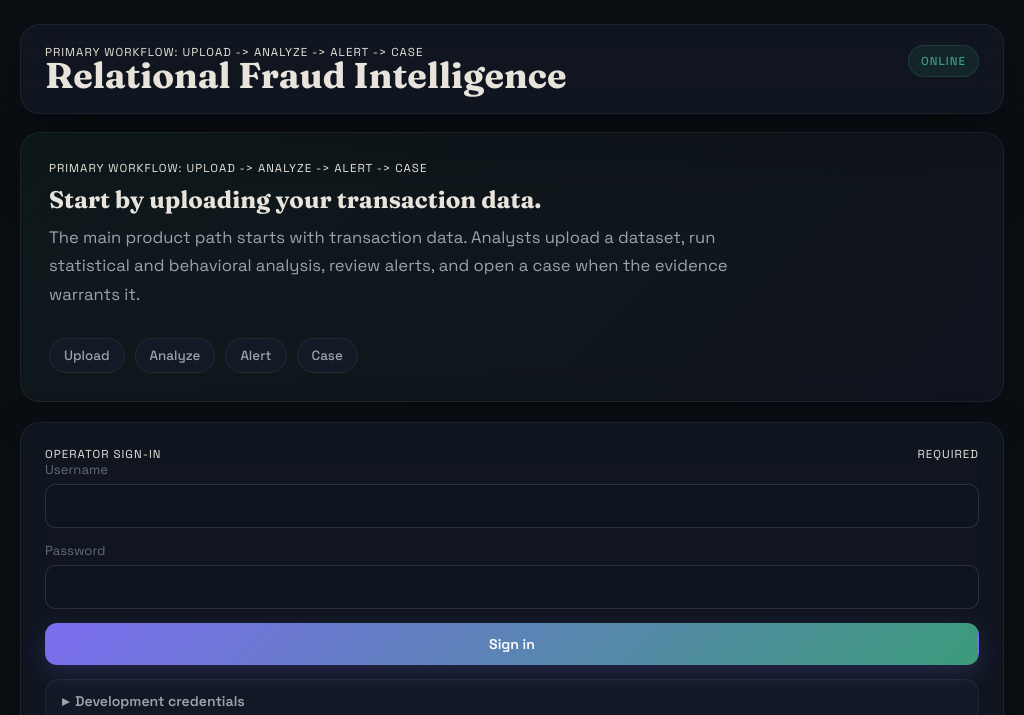
Test: Dashboard › refreshes alerts and audit entries after an admin analyzes a dataset
Type "admin" into the field labelled "Username" at (512, 506), box [45, 484, 979, 528]
Type "AdminPassword123!" into the password field labelled "Password" at (512, 586), box [45, 564, 979, 608]
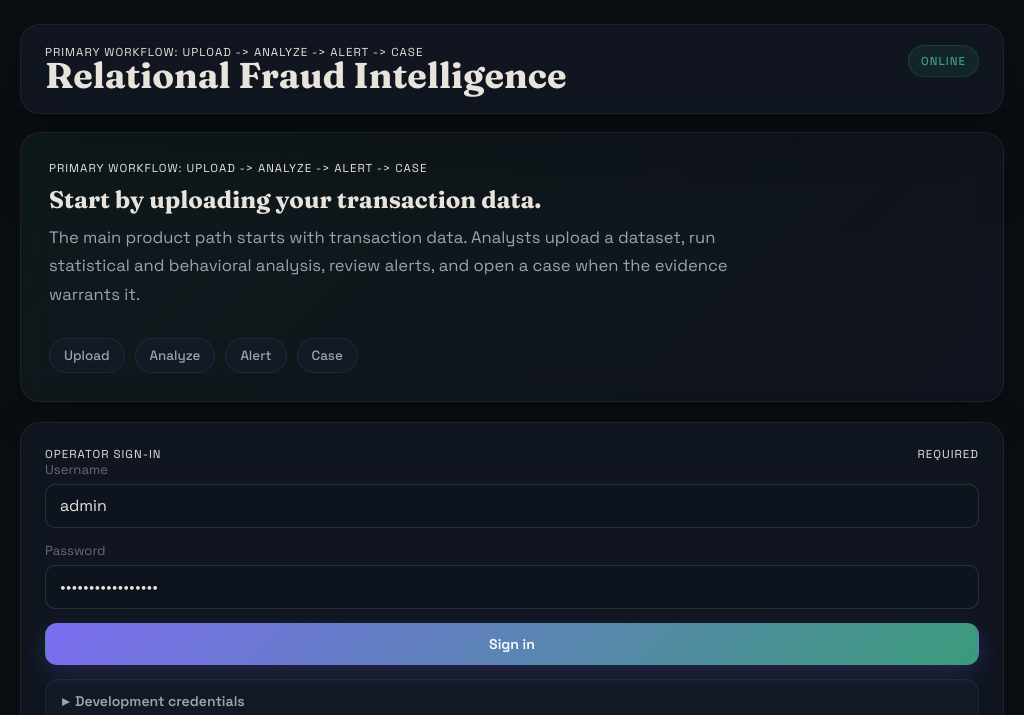
Submit the form "Sign in", box [45, 460, 979, 664]
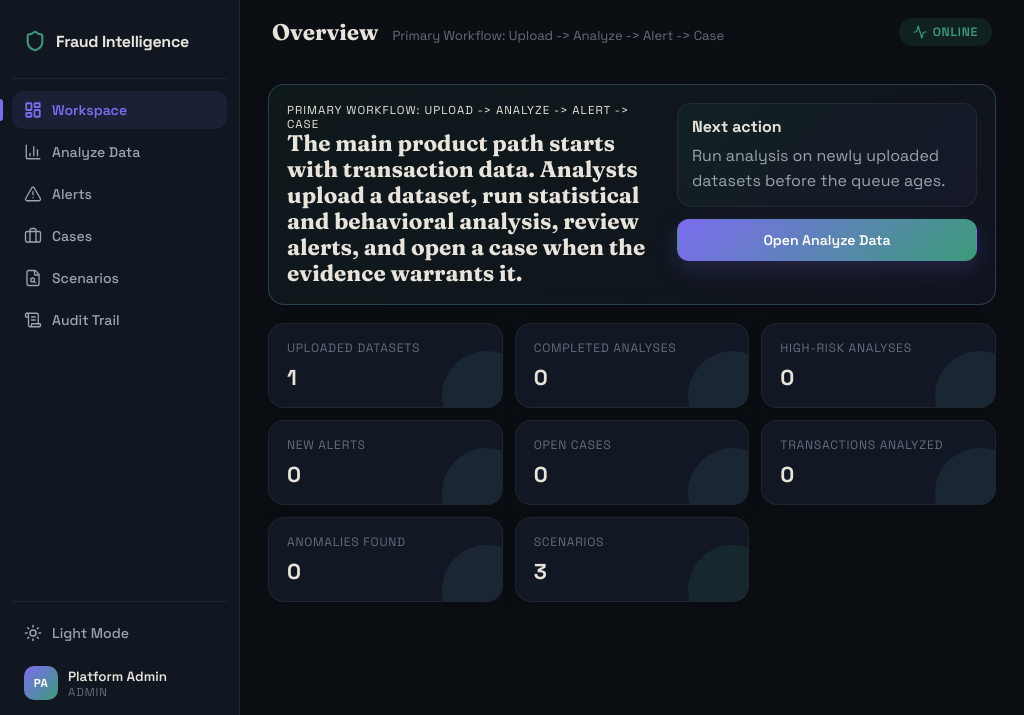
Click the button "Analyze Data" at (120, 152), box [12, 133, 227, 171]
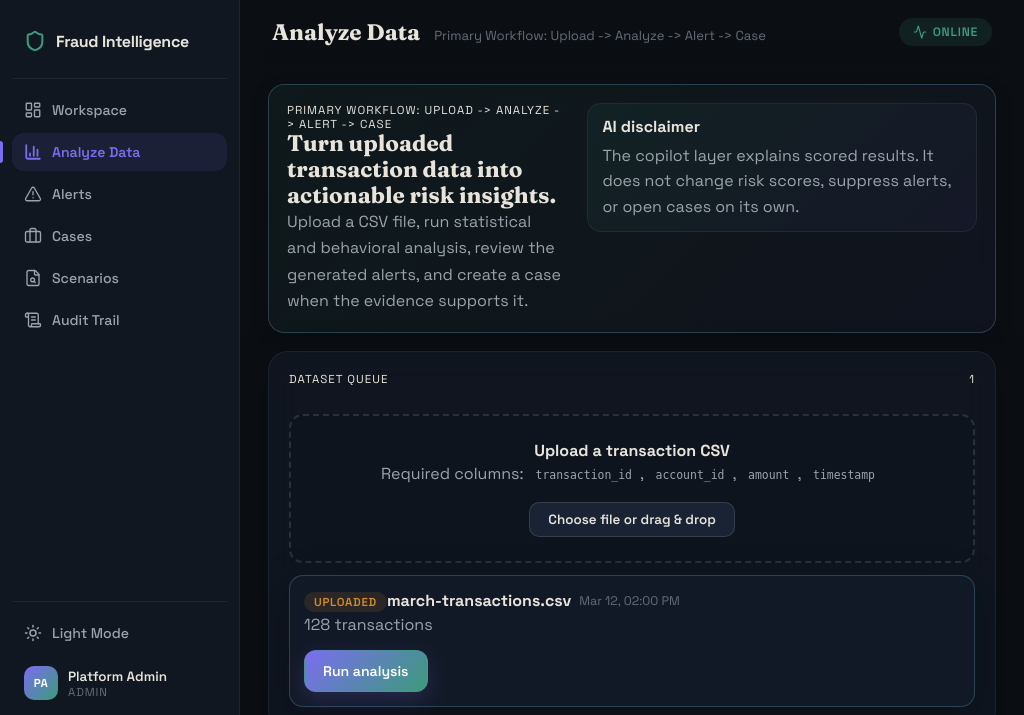
Click the button "Run analysis" at (366, 671), box [304, 650, 428, 692]
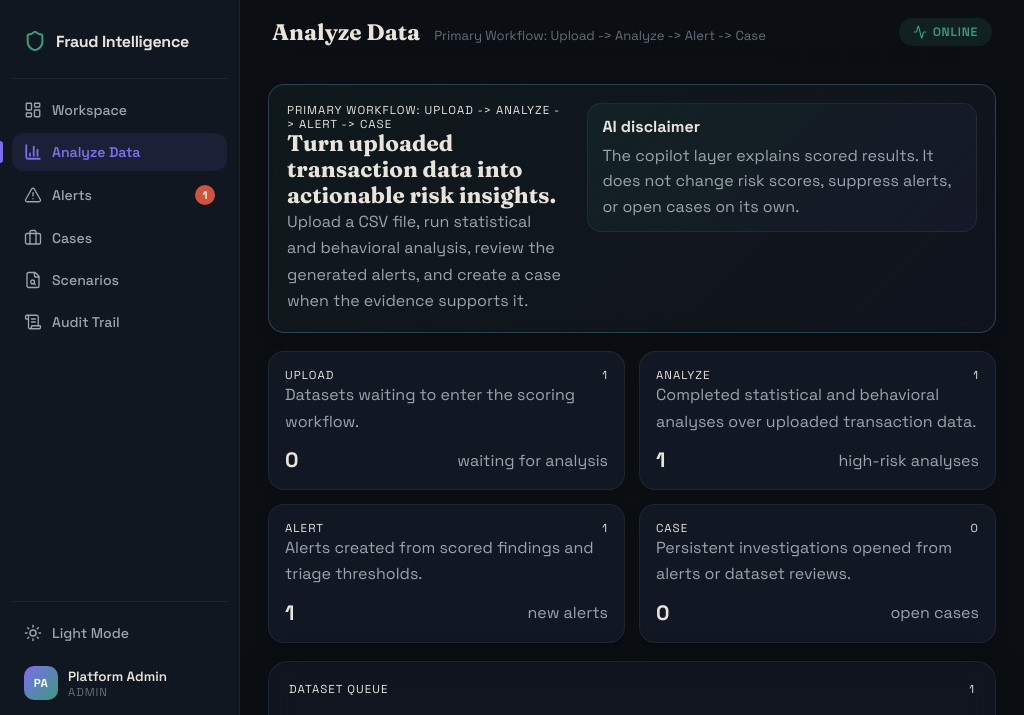
Click the button "Alerts 1" at (120, 195), box [12, 175, 227, 215]
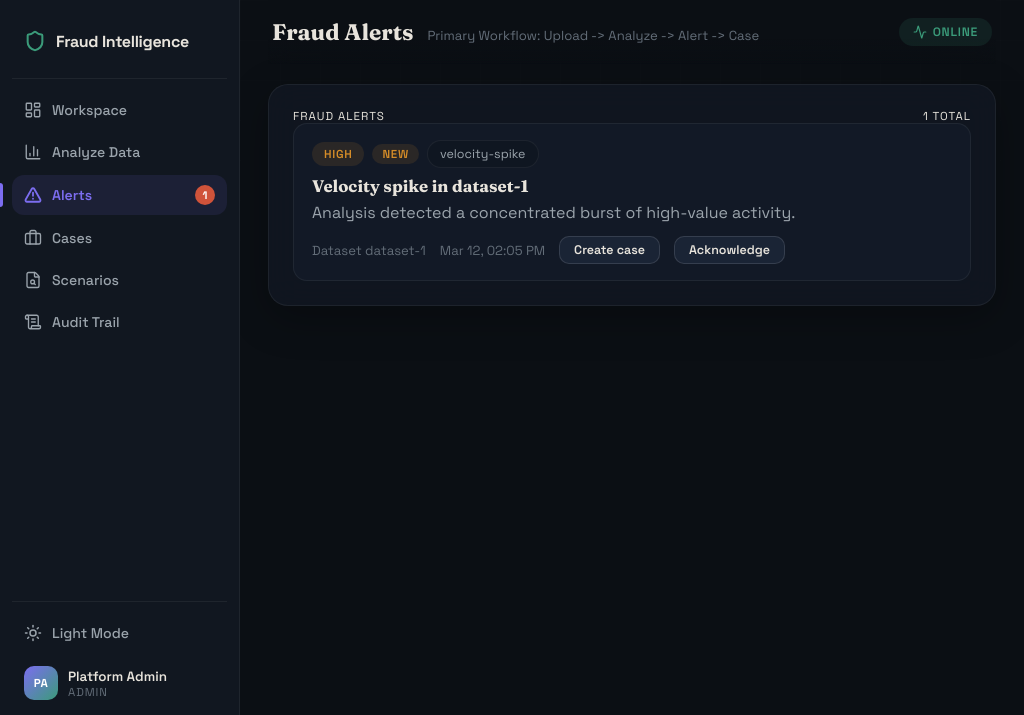
expect the heading "Velocity spike in dataset-1" is shown: met, box [312, 176, 529, 196]
Click the button "Audit Trail" at (120, 322), box [12, 303, 227, 341]
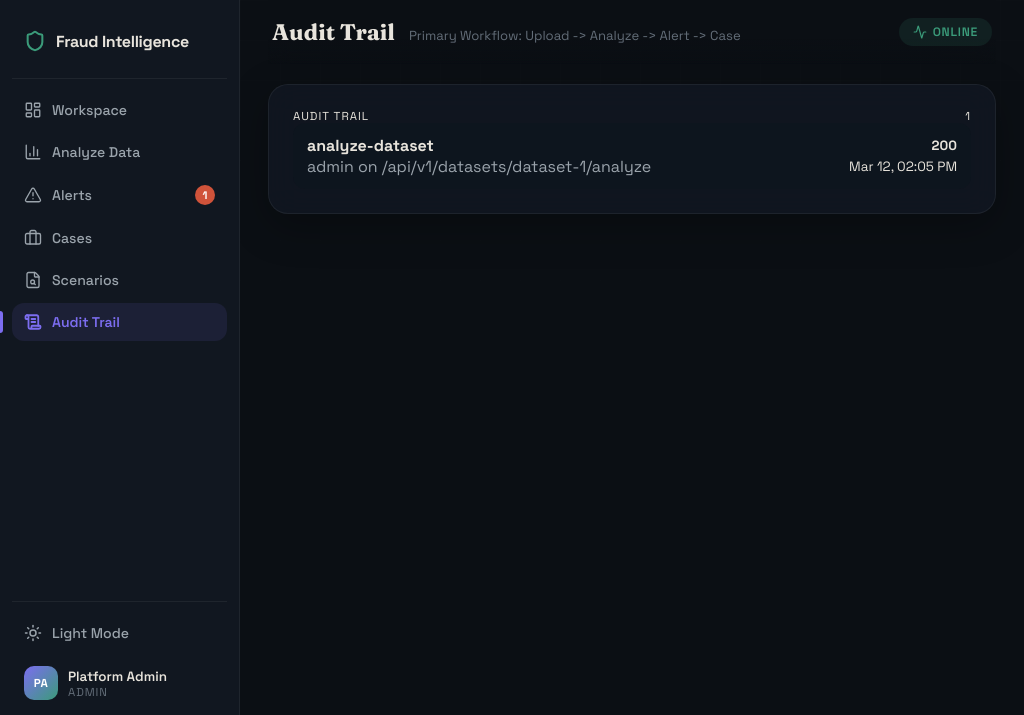
expect the text "analyze-dataset" is shown: met, box [307, 135, 434, 156]
